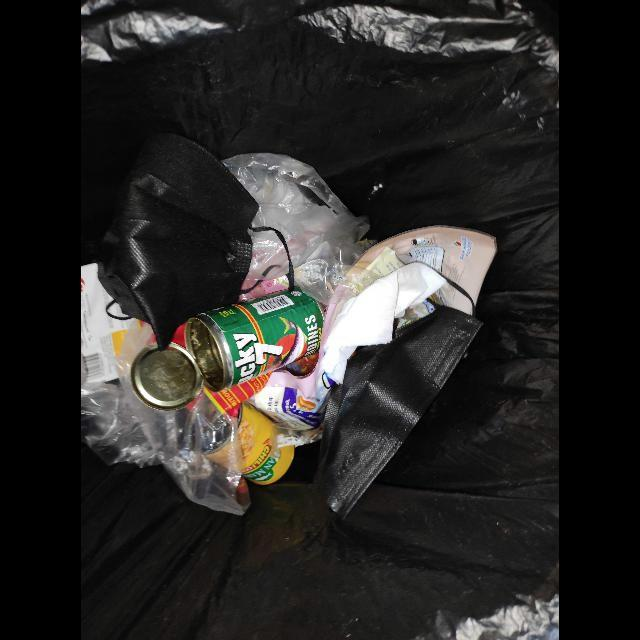aluminum: (130, 292, 323, 411)
food_wrapper: (248, 226, 498, 429)
paper: (322, 262, 448, 385)
plastic_bag: (223, 153, 370, 309)
